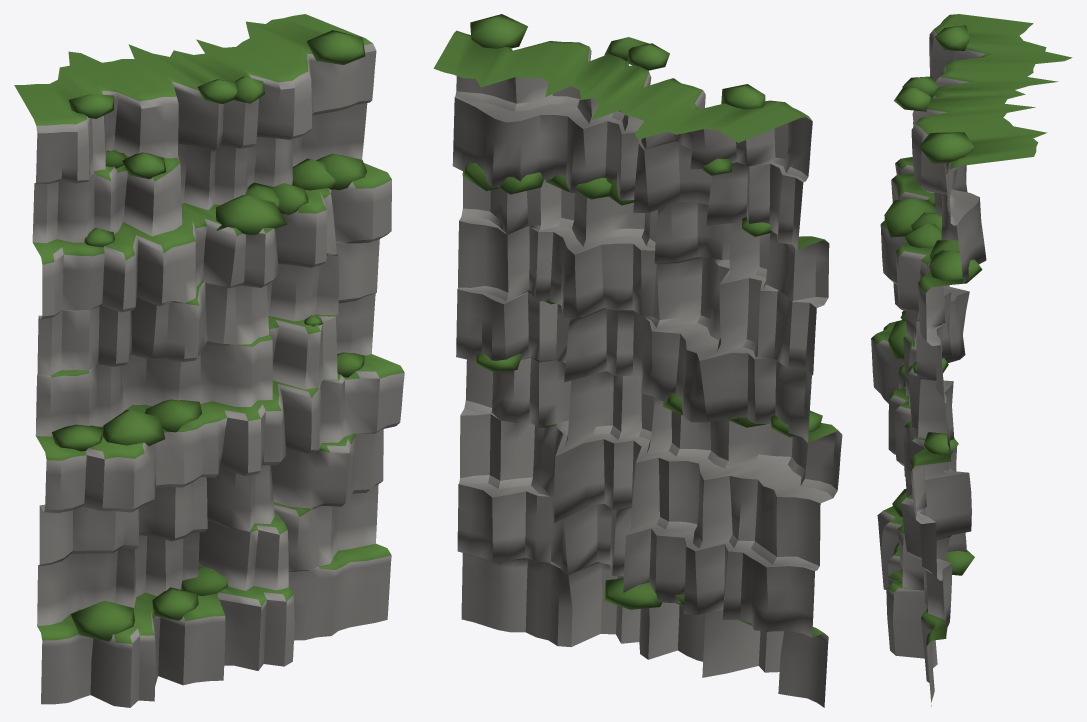
The model's file is cliff_convex_60.glb.
3 renders of one model, left to right at view 1: azimuth 30°, elevation 25°; view 2: azimuth 150°, elevation 25°; view 3: azimuth 270°, elevation 25°, orthographic. The views are drawn at different scales.
Parts seen in each view (by area): view 1: cliff_convex_60; view 2: cliff_convex_60; view 3: cliff_convex_60.
Part boxes in pixels (<box>): cliff_convex_60: <box>14,14,404,707</box>; cliff_convex_60: <box>433,14,842,707</box>; cliff_convex_60: <box>871,14,1072,706</box>.
Bounding box in the file's own units: 41.9 × 65.93 × 21.75.
